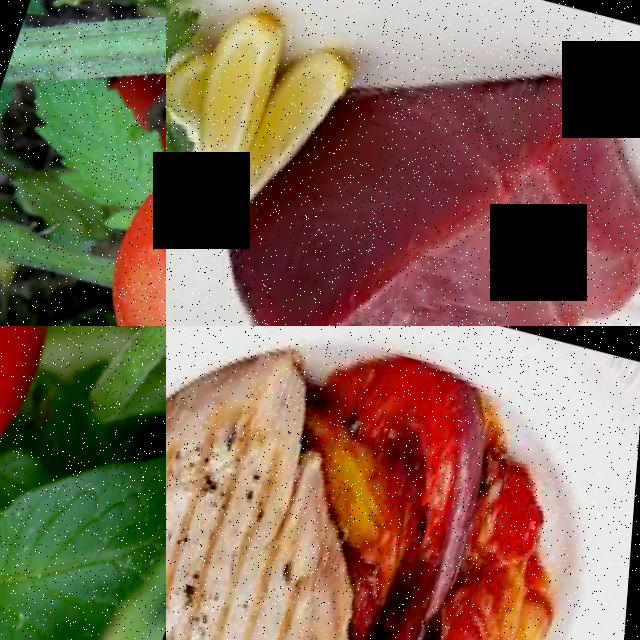lemon: (168, 0, 299, 204)
tomato: (0, 326, 132, 637), (72, 101, 166, 326)
tuna: (225, 15, 640, 326)
